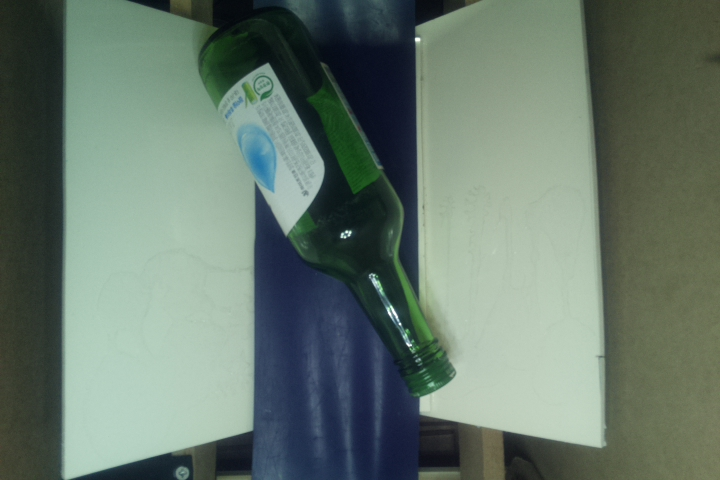soju: (194, 1, 460, 397)
